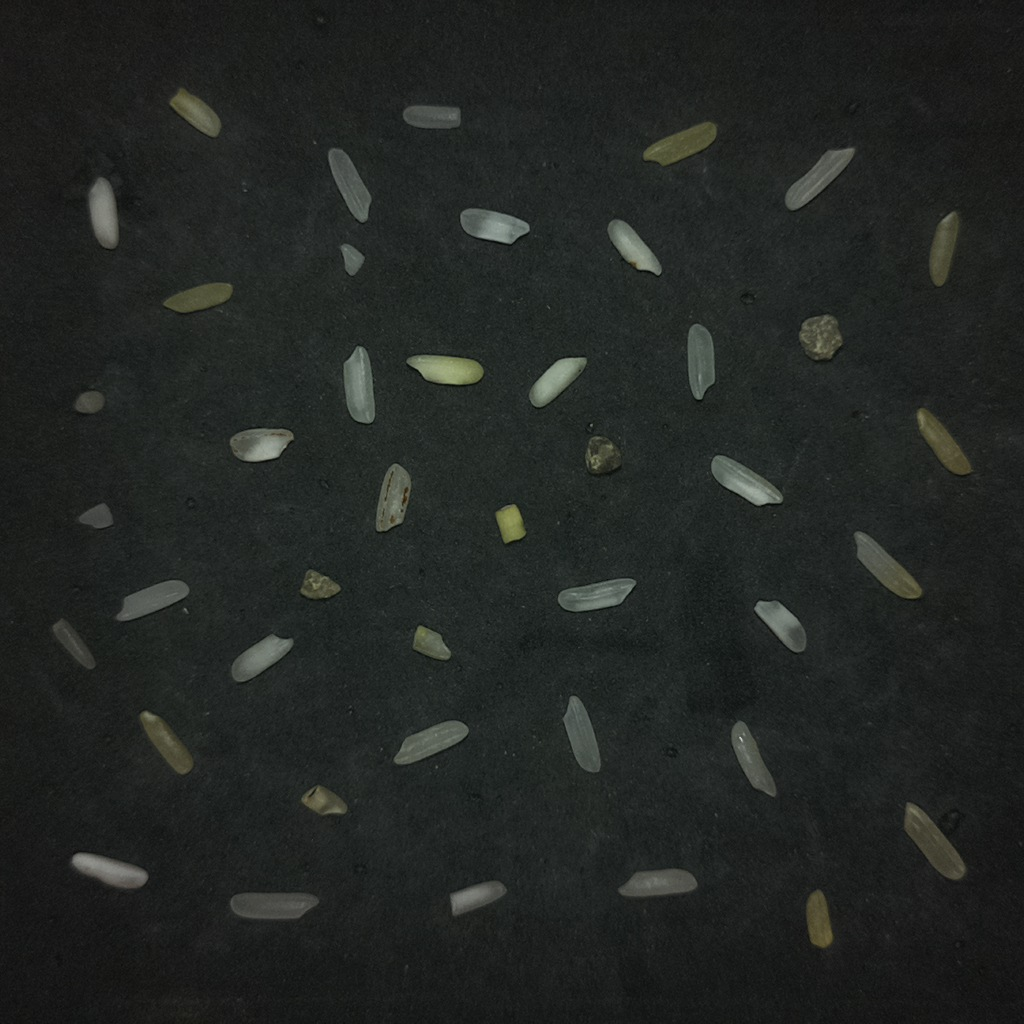broken: (51, 619, 95, 669), (449, 880, 506, 915), (301, 785, 347, 815), (403, 105, 460, 129), (77, 503, 112, 529), (340, 243, 364, 276), (73, 390, 104, 414)
chalky: (607, 219, 661, 275), (231, 634, 293, 682), (70, 852, 148, 889), (529, 357, 586, 407), (755, 601, 806, 652), (460, 208, 528, 244), (88, 177, 118, 249)
discolored: (904, 802, 966, 880), (854, 531, 922, 599), (917, 408, 971, 475), (139, 710, 193, 774), (643, 121, 716, 166), (169, 88, 220, 137), (406, 354, 483, 385), (929, 211, 959, 286), (163, 282, 232, 313), (806, 889, 833, 948), (413, 625, 450, 660), (495, 504, 525, 544)
foreign: (799, 314, 842, 360), (585, 436, 622, 474), (300, 569, 340, 599)
red: (375, 463, 410, 531), (229, 428, 293, 462)
whole: (785, 148, 854, 210), (711, 455, 782, 505), (731, 721, 776, 796), (393, 720, 468, 764), (328, 148, 371, 222), (115, 579, 189, 621), (563, 695, 600, 772), (557, 578, 635, 611), (343, 346, 374, 424), (229, 892, 318, 919), (619, 868, 697, 897), (687, 324, 715, 399)
